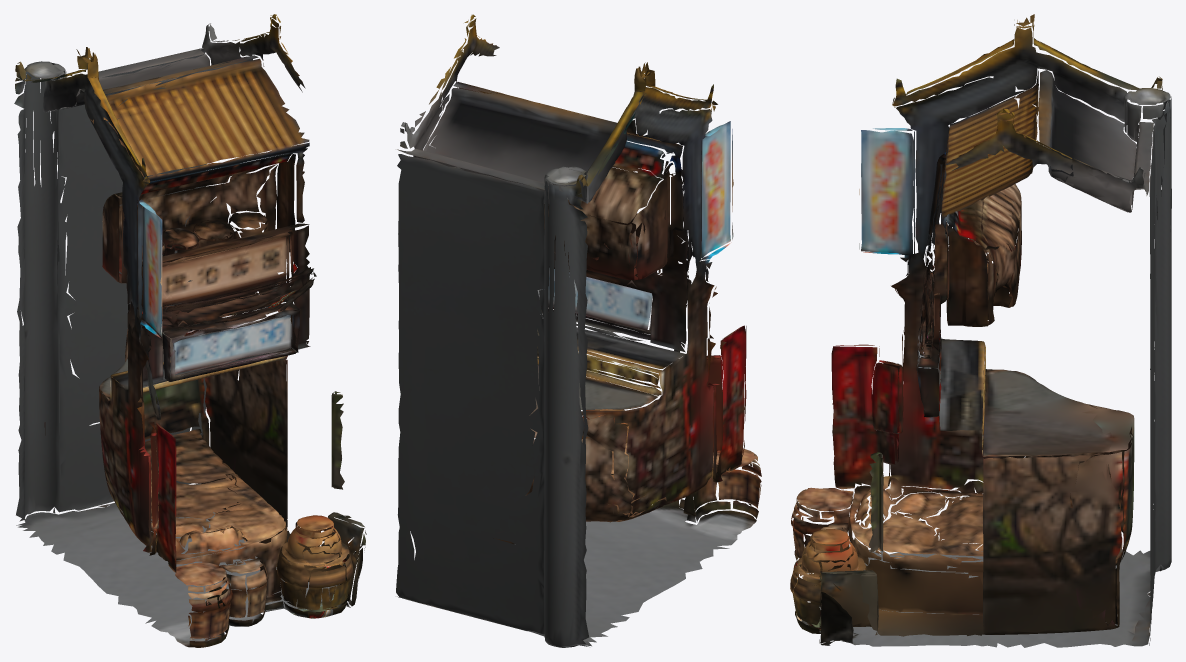
File: Chinatown_House_4.obj
3 views of the same model, side by side, from view 1: azimuth 30°, elevation 25°; view 2: azimuth 150°, elevation 25°; view 3: azimuth 270°, elevation 25° (orthographic). The views are drawn at different scales.
Parts seen in each view (by area): view 1: model; view 2: model; view 3: model.
Part boxes in pixels (left/top/right/bottom): model: left=14, top=14, right=366, bottom=647; model: left=396, top=14, right=761, bottom=647; model: left=790, top=14, right=1171, bottom=647.
Bounding box in the file's own units: 0.1676 × 0.428 × 0.2718.
1 material, 1 textured.
